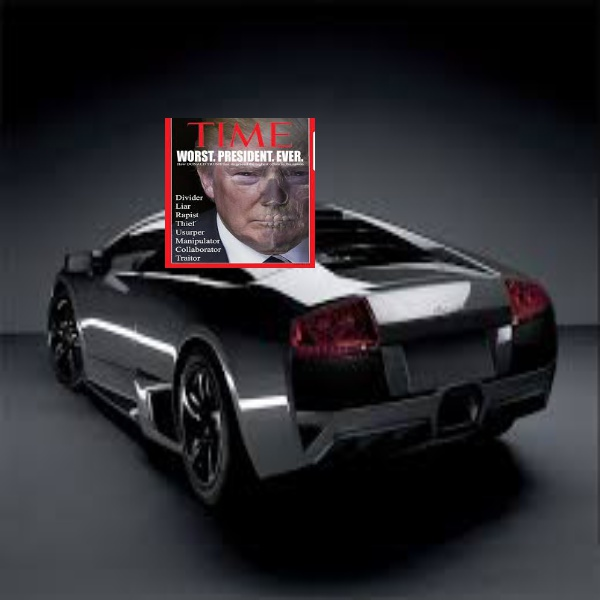time_cover: (158, 99, 325, 277)
